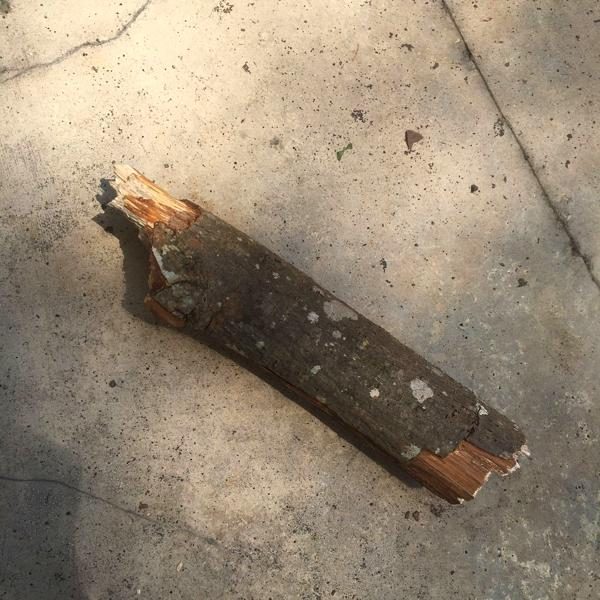Organik: (80, 136, 549, 520)
